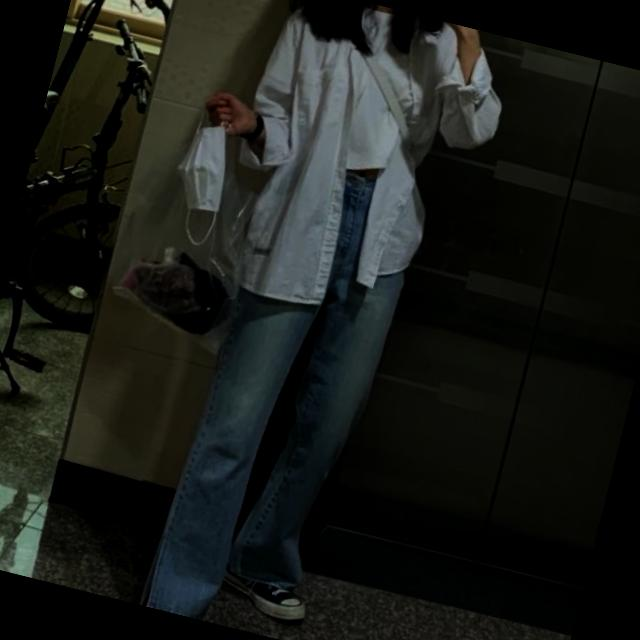denimpants: (138, 144, 424, 640)
shirt: (199, 0, 515, 338)
